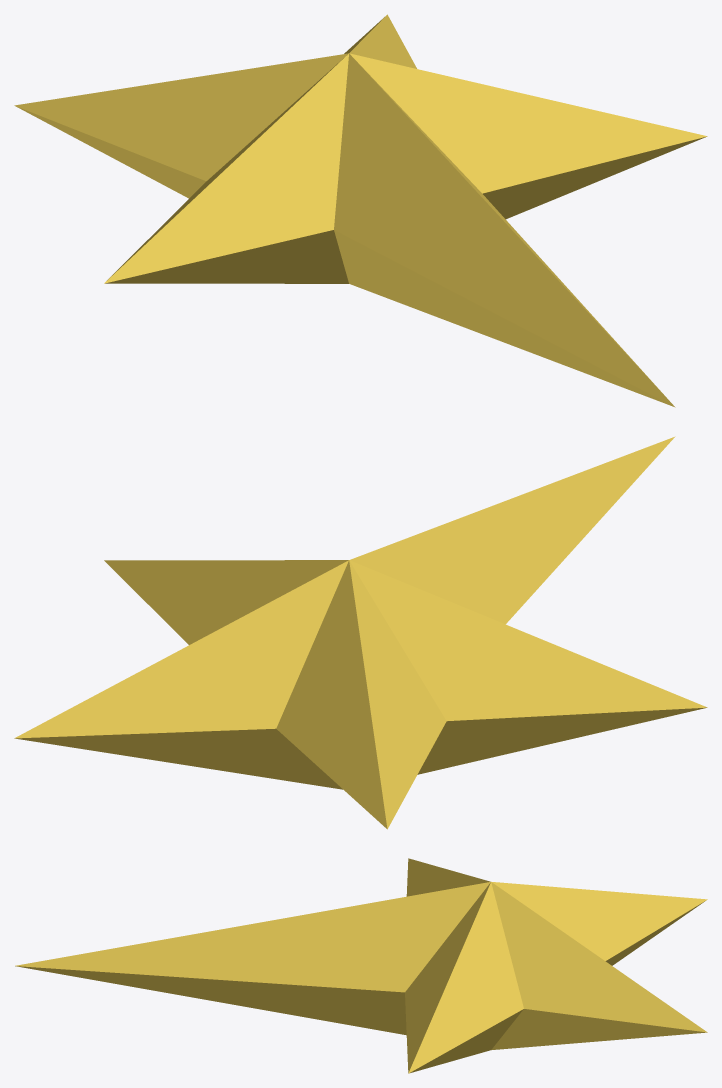
File: star-01.glb
3 views of the same model, one above another, from view 1: azimuth 30°, elevation 25°; view 2: azimuth 150°, elevation 25°; view 3: azimuth 270°, elevation 25° (orthographic). The views are drawn at different scales.
Visible parts, largest first — view 1: tailstar; view 2: tailstar; view 3: tailstar.
Boxes of the visible parts, bbox=[...] form: tailstar: bbox=[14, 14, 707, 407]; tailstar: bbox=[14, 436, 707, 829]; tailstar: bbox=[15, 858, 707, 1073].
Bounding box in the file's own units: 1.9 × 0.6933 × 2.59.
